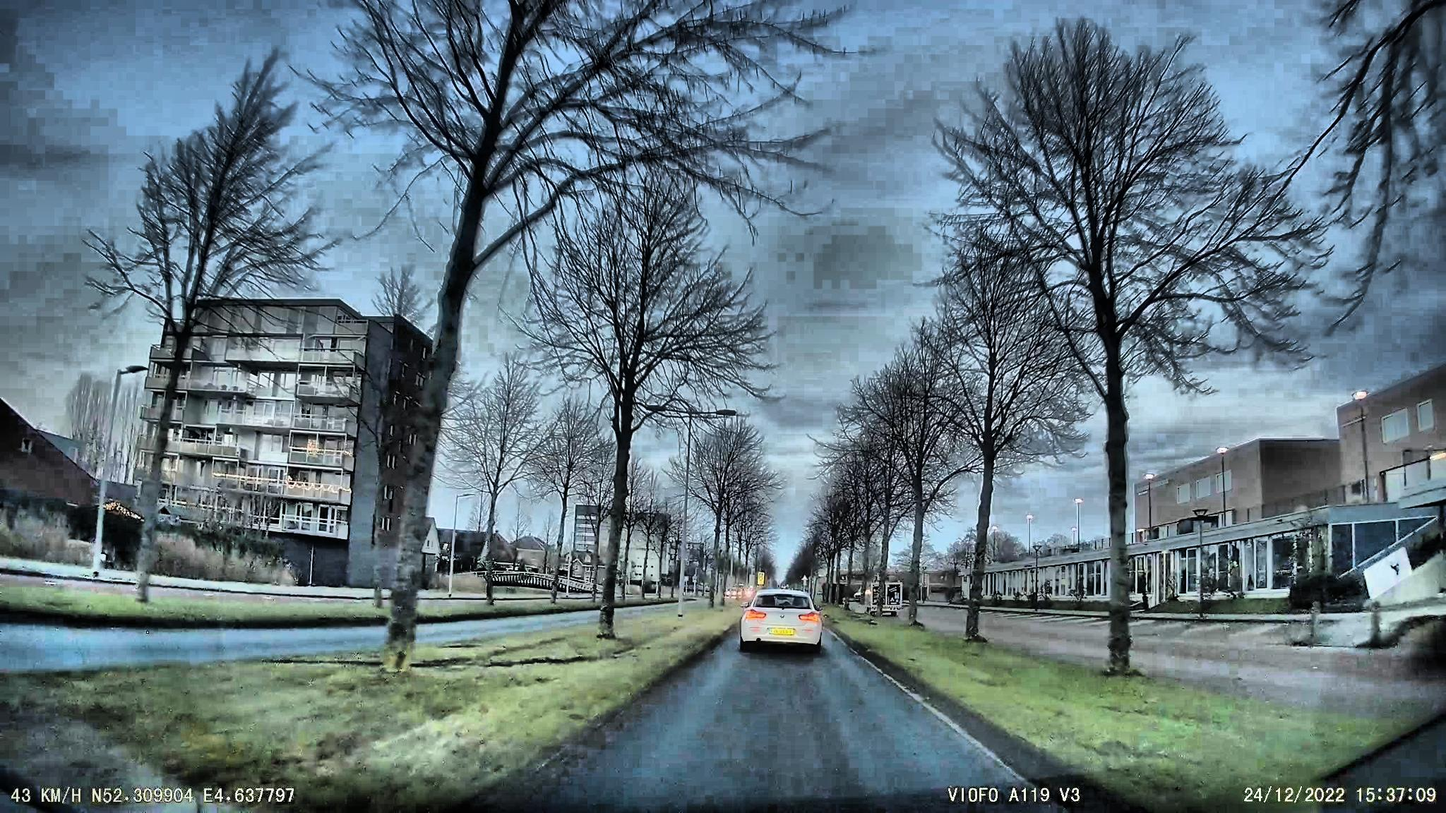Roads: (548, 637, 1066, 813)
